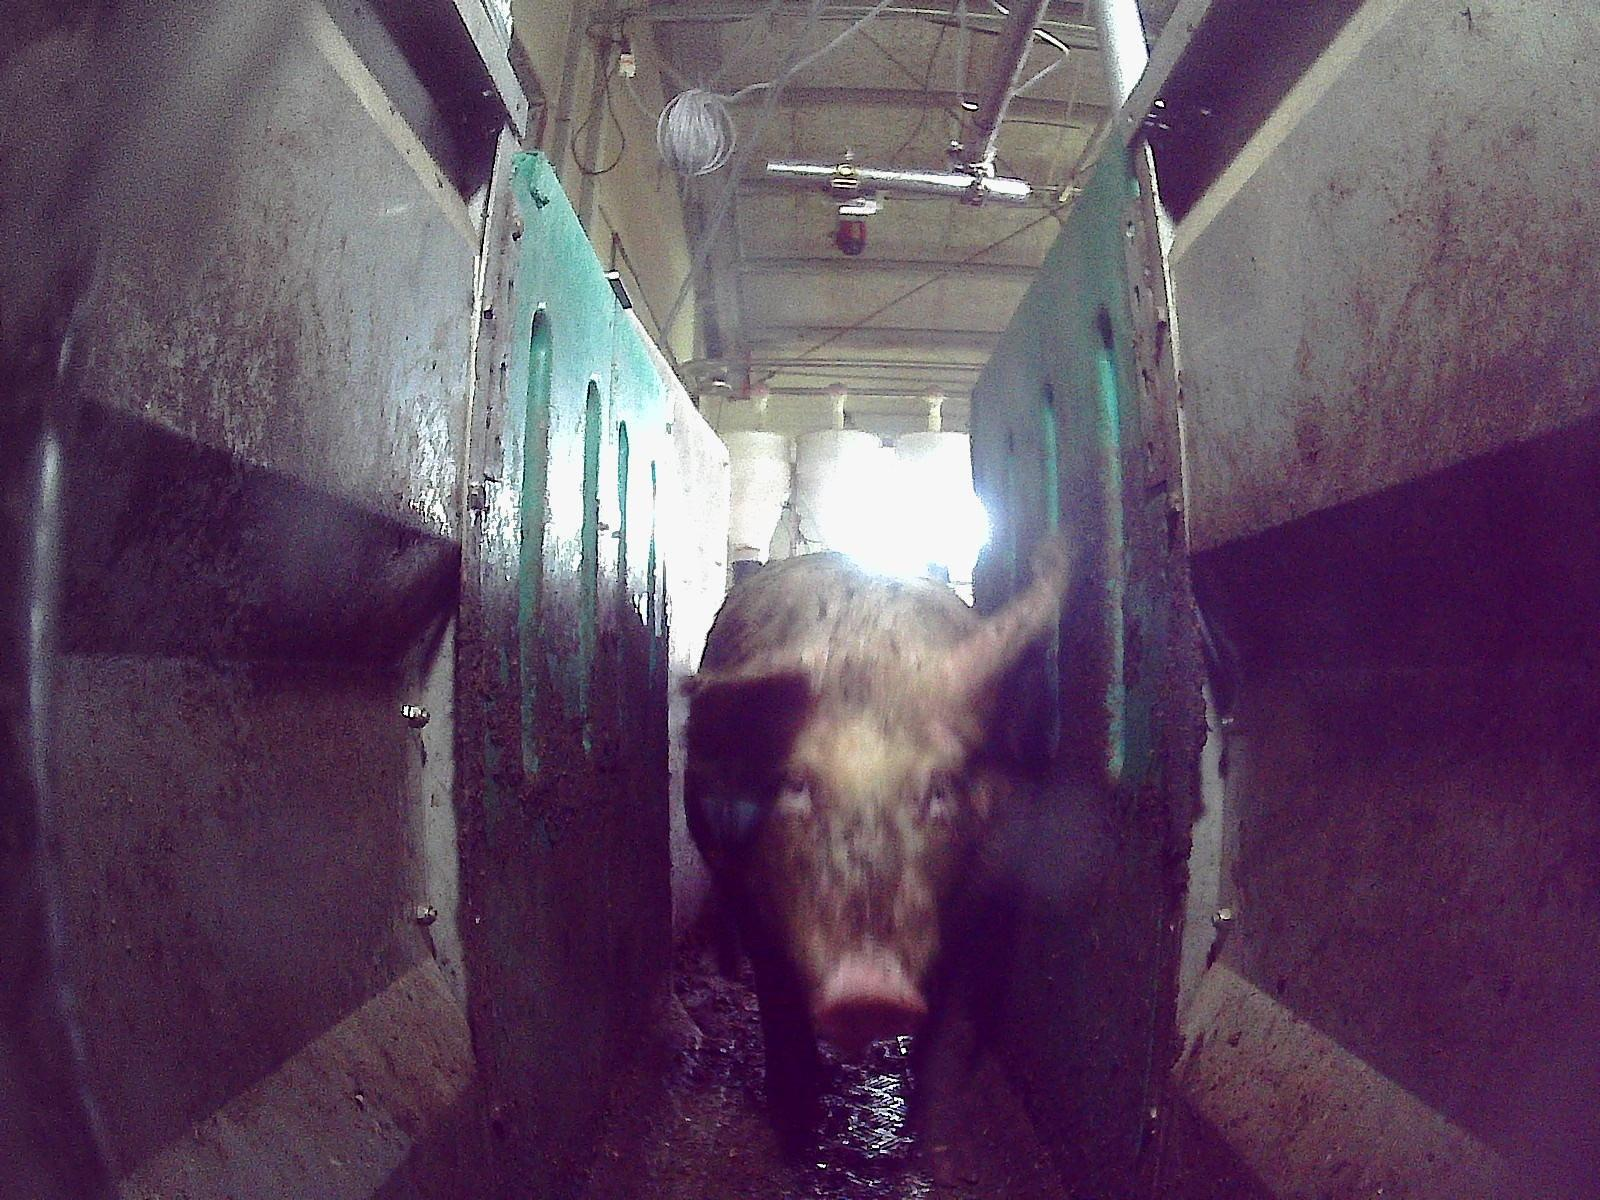Face: (736, 678, 976, 1034)
